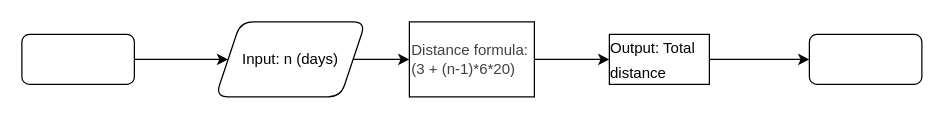
Image size: 944x129. Some labels were removed from this diagram. Here are the shapes that lost their labels. From the top down, the box of each, then its label:
(21, 33, 134, 84): Start
(808, 33, 922, 84): End
